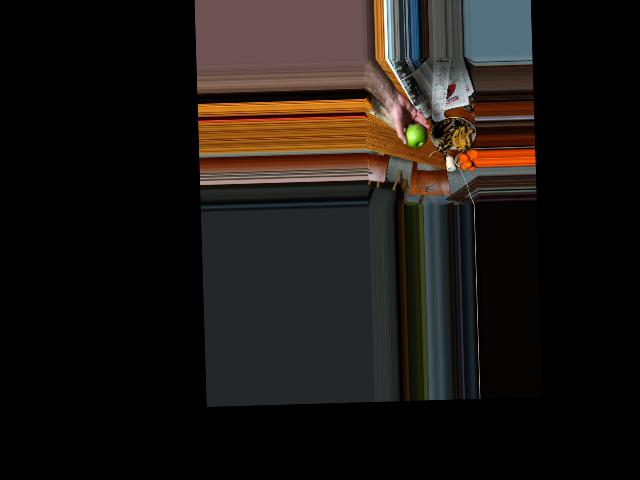apple: (404, 125, 426, 149)
